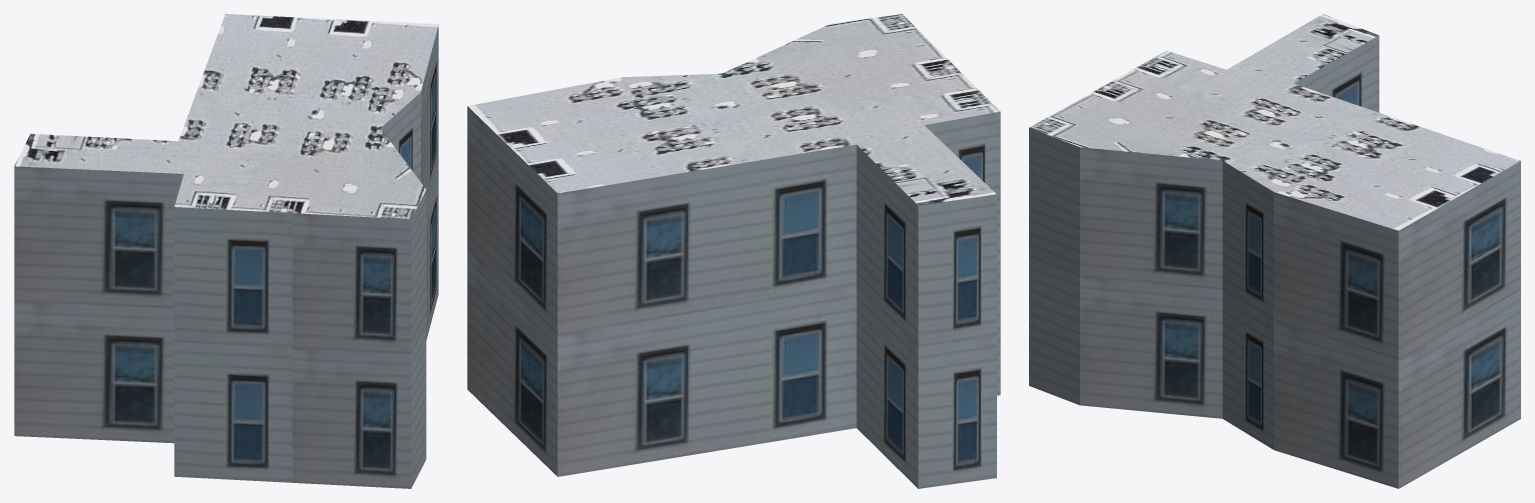
The model's file is ResTex__4503.fbx.
The picture shows the model from 3 angles, left to right: view 1: azimuth 30°, elevation 25°; view 2: azimuth 150°, elevation 25°; view 3: azimuth 270°, elevation 25°; orthographic projection. The views are drawn at different scales.
Parts seen in each view (by area): view 1: CityEngineMaterial_18_m, CityEngineMaterial_4_m; view 2: CityEngineMaterial_18_m, CityEngineMaterial_4_m; view 3: CityEngineMaterial_18_m, CityEngineMaterial_4_m.
Boxes of the visible parts, left/top/right/bottom form: CityEngineMaterial_18_m: left=14, top=25, right=438, bottom=488; CityEngineMaterial_4_m: left=14, top=14, right=438, bottom=219; CityEngineMaterial_18_m: left=467, top=106, right=1000, bottom=488; CityEngineMaterial_4_m: left=468, top=14, right=1000, bottom=205; CityEngineMaterial_18_m: left=1029, top=35, right=1520, bottom=488; CityEngineMaterial_4_m: left=1029, top=14, right=1520, bottom=230.
Size of the model in its own units: 10.81 by 6 by 10.36.
2 materials, 2 textured.
